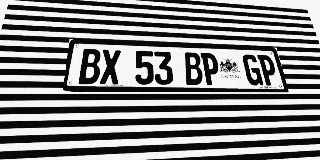3: (154, 51, 173, 85)
5: (135, 50, 154, 85)
B: (78, 49, 101, 84), (183, 52, 204, 85)
G: (242, 54, 264, 85)
P: (200, 53, 221, 85), (257, 55, 279, 85)
X: (100, 49, 121, 84)
